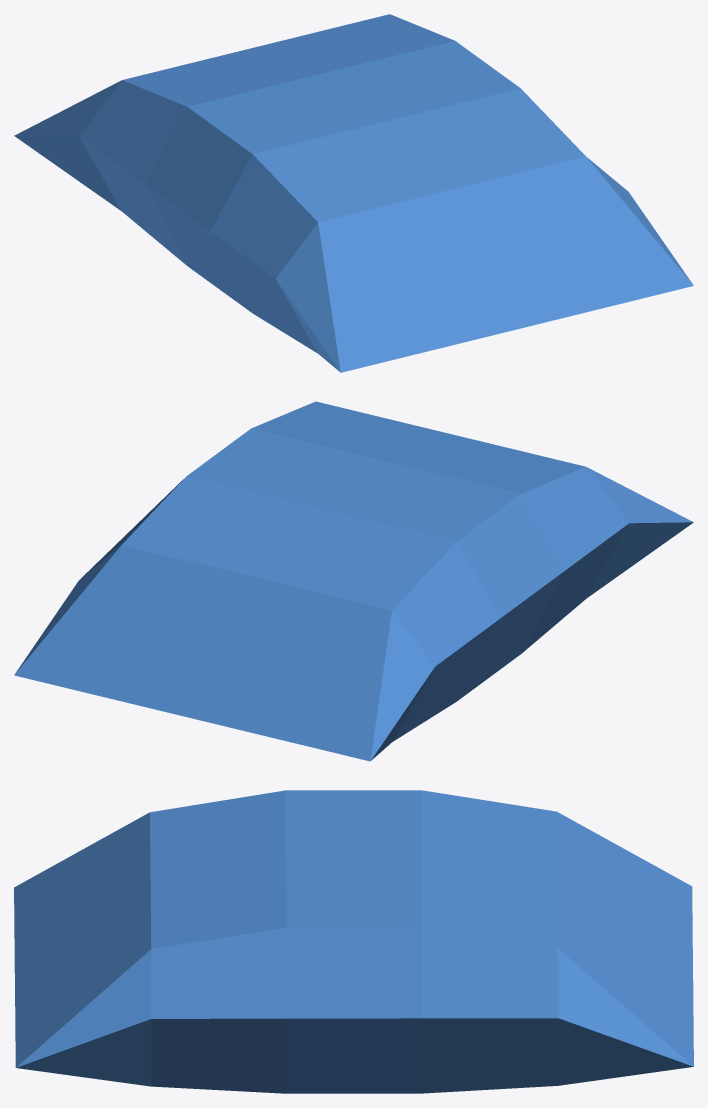
The model's file is Childrens_Room_Pillow_2.fbx.
3 renders of one model, top to bottom at view 1: azimuth 30°, elevation 25°; view 2: azimuth 150°, elevation 25°; view 3: azimuth 270°, elevation 25°, orthographic. The views are drawn at different scales.
Visible parts, largest first — view 1: Childrens_Room_Pillow_2; view 2: Childrens_Room_Pillow_2; view 3: Childrens_Room_Pillow_2.
Part boxes in pixels (x1,y1,x2,y2): Childrens_Room_Pillow_2: [14, 14, 693, 372]; Childrens_Room_Pillow_2: [14, 401, 693, 761]; Childrens_Room_Pillow_2: [14, 790, 693, 1093].
Size of the model in its own units: 56.57 by 24.17 by 89.49.
